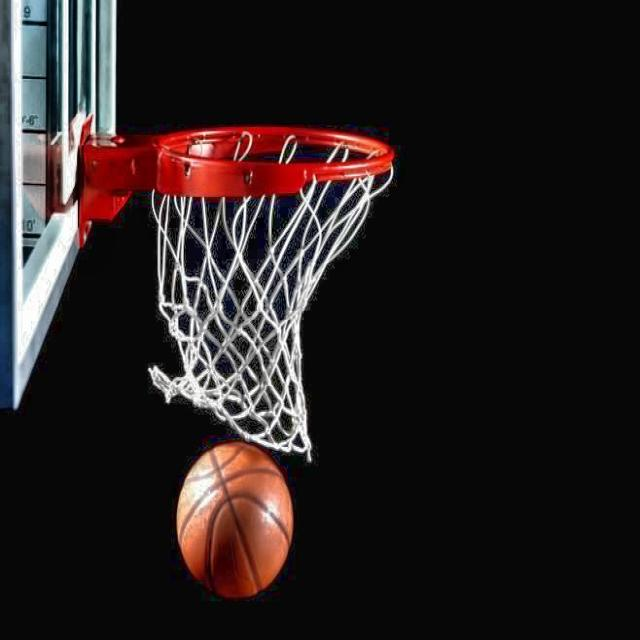board: (176, 442, 295, 598)
rim: (142, 125, 394, 449)
